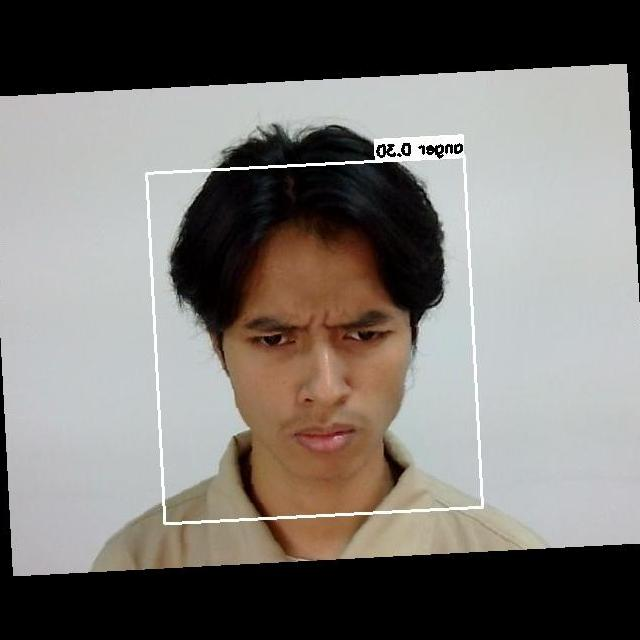Angry: (210, 280, 417, 468)
